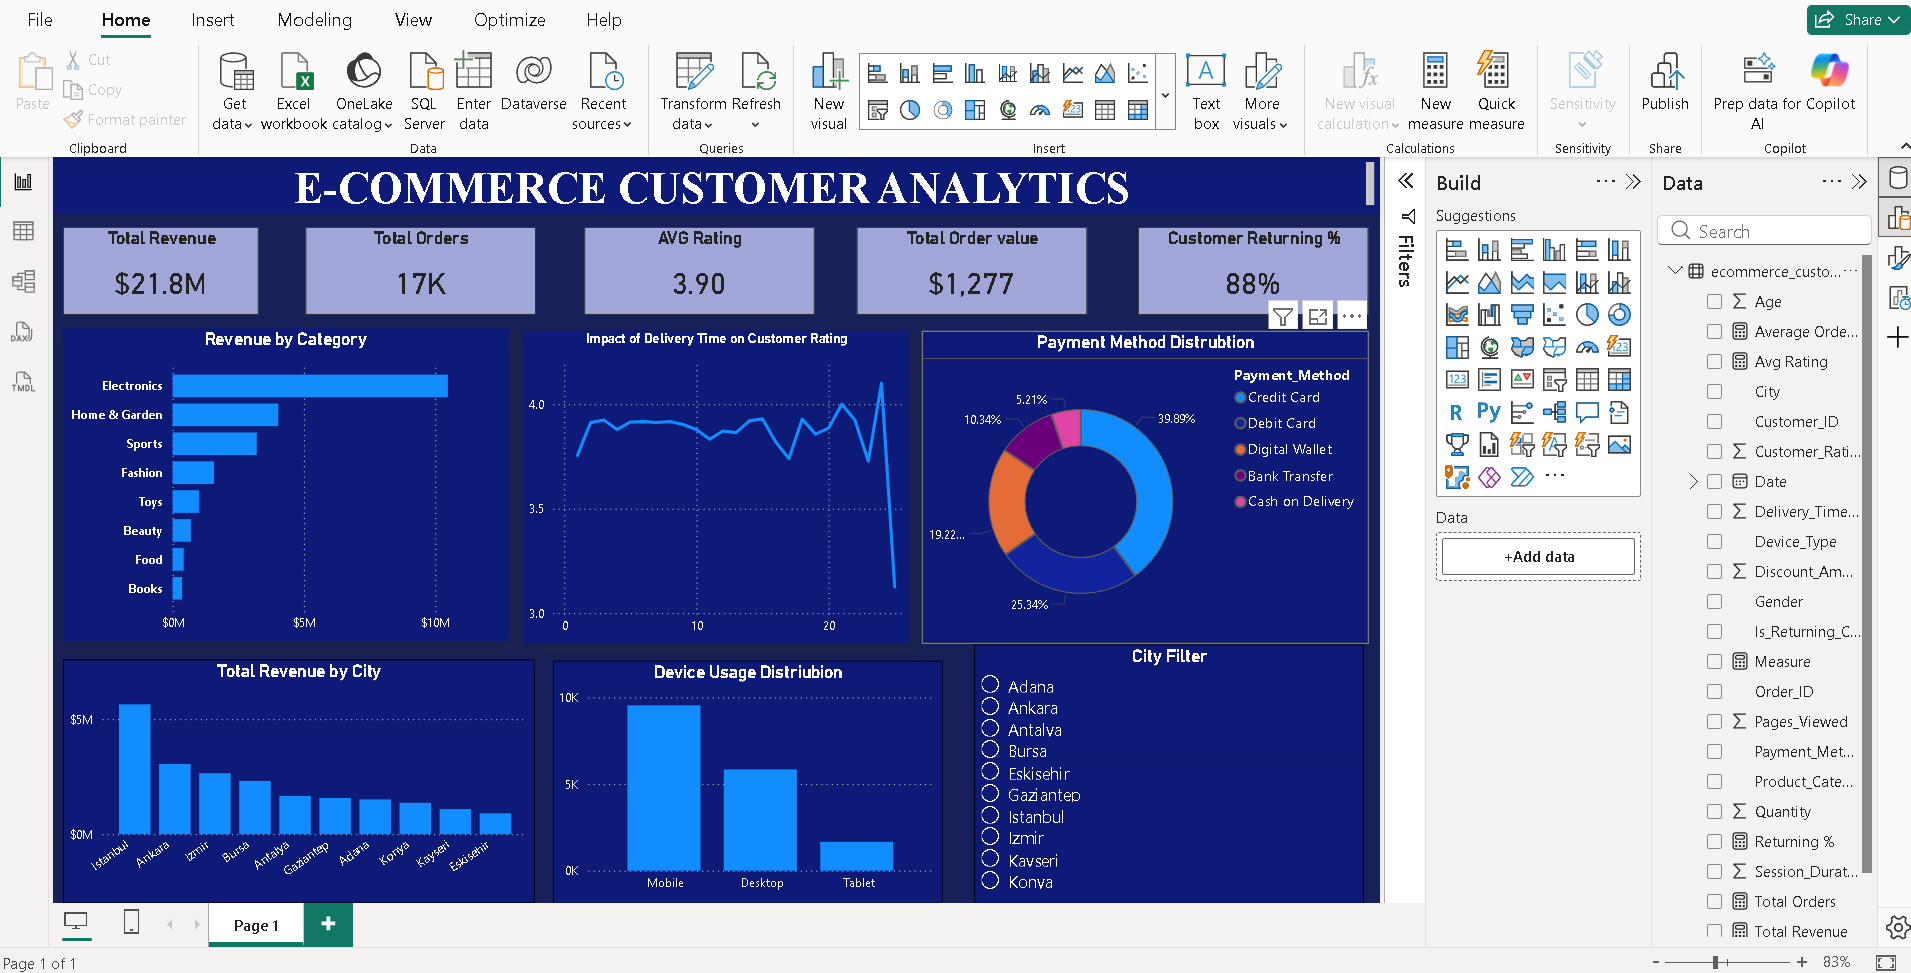

The page's visual inventory and layout, read from the dashboard file:
{"tool":"powerbi","page":{"name":"Page 1","canvas":[1280,720],"ordinal":0},"visuals":[{"type":"textbox","box":[0,0,1280,55.5],"z":0},{"type":"card","title":"Total Revenue","fields":{"Values":["ecommerce_customer_behavior_dataset_v2.Total Revenue"]},"box":[10.1,67.8,189,85.1],"z":1000},{"type":"card","title":"Total Orders","fields":{"Values":["ecommerce_customer_behavior_dataset_v2.Total Orders"]},"box":[243.8,67.8,222.2,85.1],"z":2000},{"type":"card","title":"AVG Rating","fields":{"Values":["ecommerce_customer_behavior_dataset_v2.Avg Rating"]},"box":[512.2,67.8,222.2,85.1],"z":3000},{"type":"card","title":"Customer Returning %","fields":{"Values":["ecommerce_customer_behavior_dataset_v2.Returning %"]},"box":[1047.4,67.8,222.2,85.1],"z":4000},{"type":"card","title":"Total Order value","fields":{"Values":["ecommerce_customer_behavior_dataset_v2.Average Order Value"]},"box":[776.2,67.8,222.2,85.1],"z":5000},{"type":"clusteredBarChart","title":"Revenue by Category","fields":{"Category":["ecommerce_customer_behavior_dataset_v2.Product_Category"],"Y":["ecommerce_customer_behavior_dataset_v2.Total Revenue"]},"box":[9.6,165.8,430.1,302.7],"z":6000},{"type":"lineChart","title":"Impact of Delivery Time on Customer Rating","fields":{"Category":["ecommerce_customer_behavior_dataset_v2.Delivery_Time_Days"],"Y":["ecommerce_customer_behavior_dataset_v2.Avg Rating"]},"box":[453.4,167.1,374,302.7],"z":7000},{"type":"donutChart","title":"Payment Method Distrubtion","fields":{"Category":["ecommerce_customer_behavior_dataset_v2.Payment_Method"],"Y":["CountNonNull(ecommerce_customer_behavior_dataset_v2.Order_ID)"]},"box":[838.2,167.3,430.9,301.8],"z":8000},{"type":"columnChart","fields":{"Category":["ecommerce_customer_behavior_dataset_v2.City"],"Y":["ecommerce_customer_behavior_dataset_v2.Total Revenue"]},"box":[10,485,455,235],"z":9000},{"type":"columnChart","title":"Device Usage Distriubion","fields":{"Category":["ecommerce_customer_behavior_dataset_v2.Device_Type"],"Y":["CountNonNull(ecommerce_customer_behavior_dataset_v2.Order_ID)"]},"box":[482,486,376,234],"z":10000},{"type":"listSlicer","title":"City Filter","fields":{"Values":["ecommerce_customer_behavior_dataset_v2.City"]},"box":[888.6,470,375.7,250],"z":11000}]}

Visuals, with their boxes on the page's 1280x720 design canvas (x1, y1, x2, y2). These are canvas units, not pixel positions in the 1911x973 screenshot, which may show the page scaled, cropped or inside an application window:
textbox: detection(0, 0, 1280, 56)
"Total Revenue" card: detection(10, 68, 199, 153)
"Total Orders" card: detection(244, 68, 466, 153)
"AVG Rating" card: detection(512, 68, 734, 153)
"Customer Returning %" card: detection(1047, 68, 1270, 153)
"Total Order value" card: detection(776, 68, 998, 153)
"Revenue by Category" clusteredBarChart: detection(10, 166, 440, 468)
"Impact of Delivery Time on Customer Rating" lineChart: detection(453, 167, 827, 470)
"Payment Method Distrubtion" donutChart: detection(838, 167, 1269, 469)
columnChart - ecommerce_customer_behavior_dataset_v2.City x ecommerce_customer_behavior_dataset_v2.Total Revenue: detection(10, 485, 465, 720)
"Device Usage Distriubion" columnChart: detection(482, 486, 858, 720)
"City Filter" listSlicer: detection(889, 470, 1264, 720)
